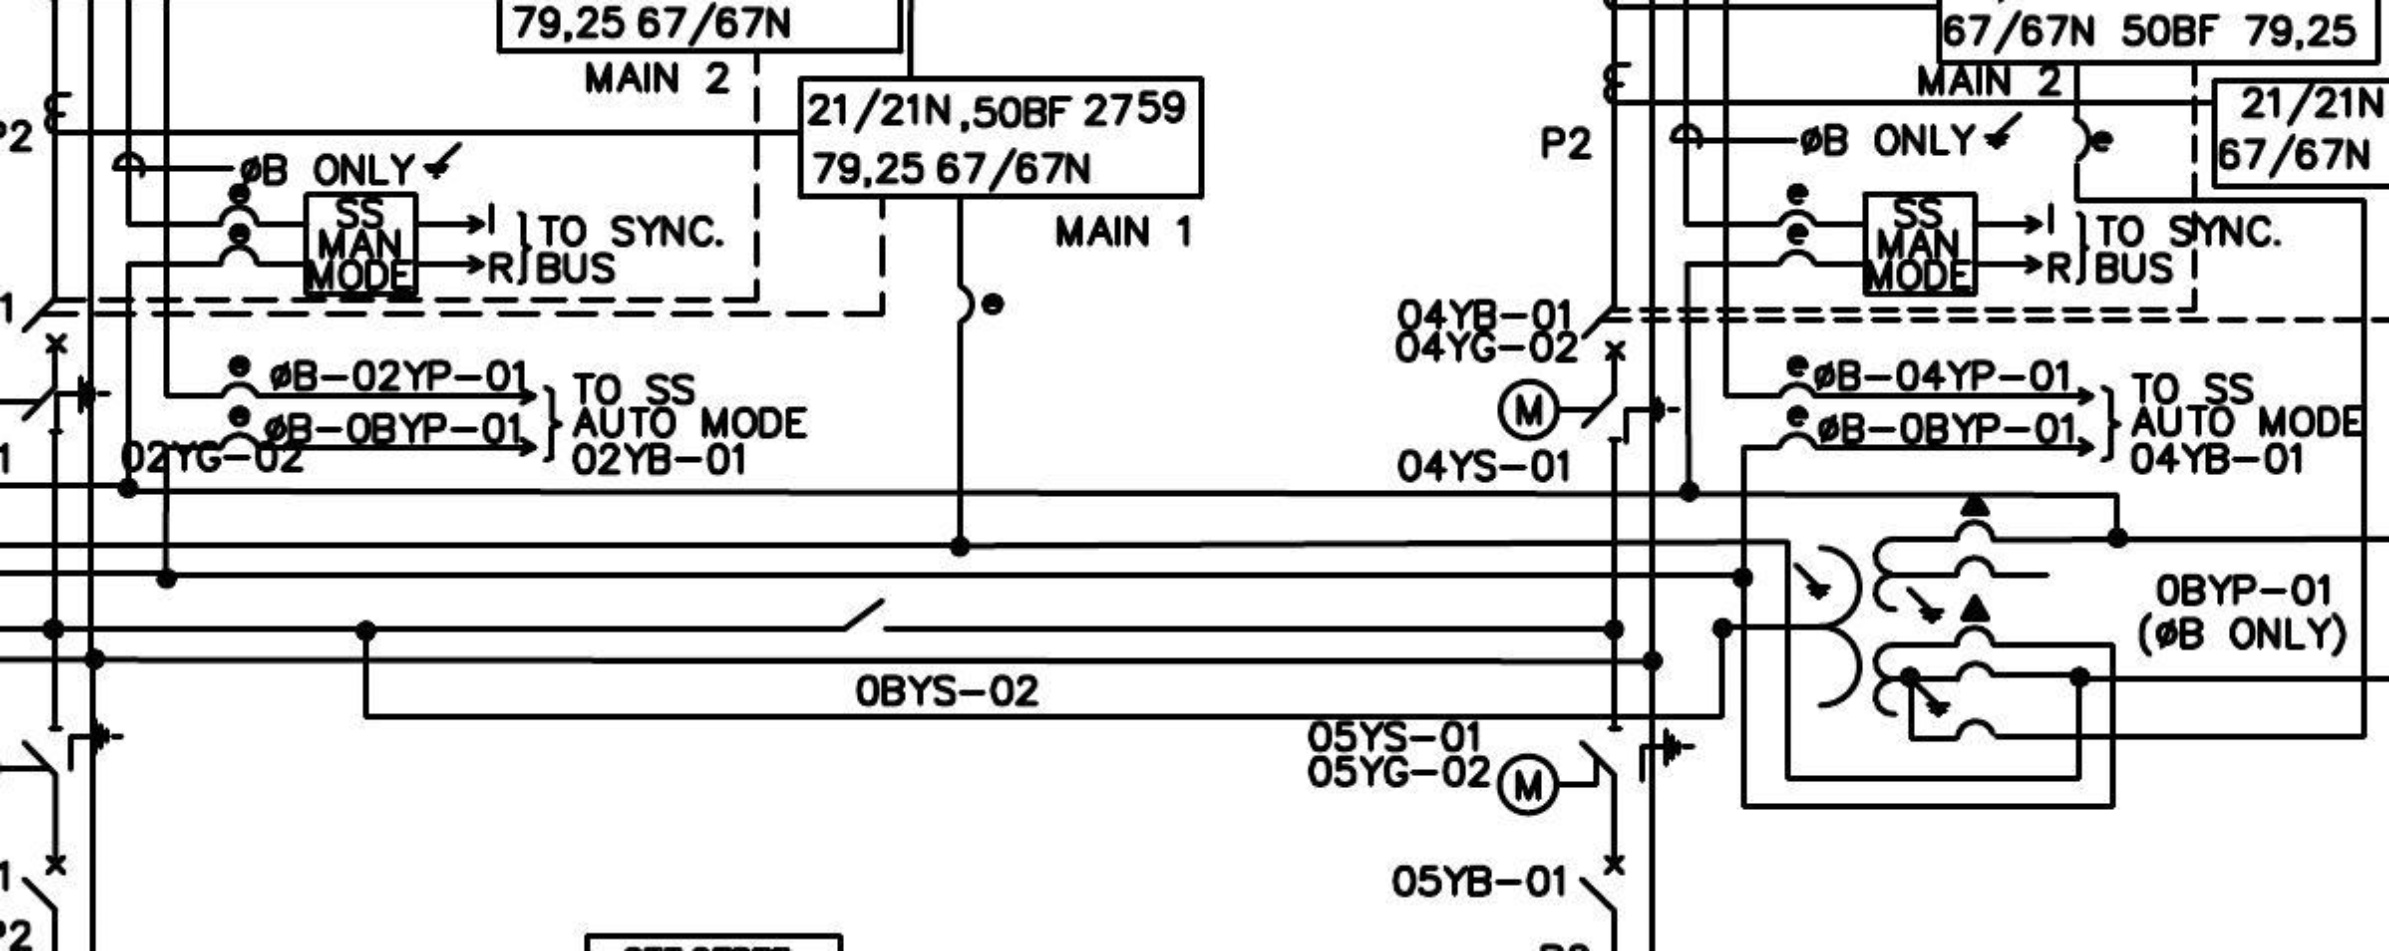115_3ways_ds_w_motor: (1495, 725, 1697, 819), (1495, 377, 1682, 446)
115_breaker: (1579, 303, 1628, 364), (20, 295, 69, 355), (1594, 855, 1643, 915), (20, 853, 68, 913)
115_ds: (840, 597, 891, 634)
115_vt_1p: (1791, 492, 1998, 720)
ss_man_mode: (1860, 189, 1980, 299), (301, 190, 421, 298)
